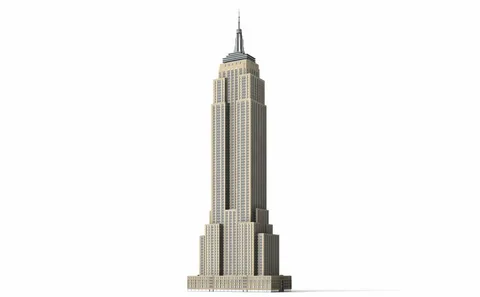high_rise_building: (199, 12, 286, 290)
